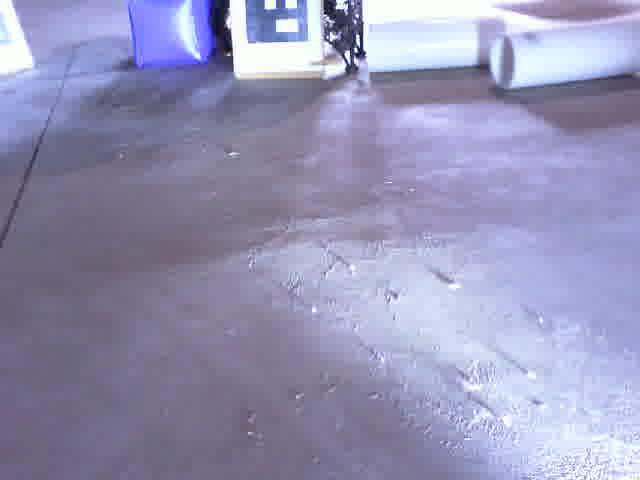coral: (490, 19, 640, 90), (369, 14, 509, 72)
